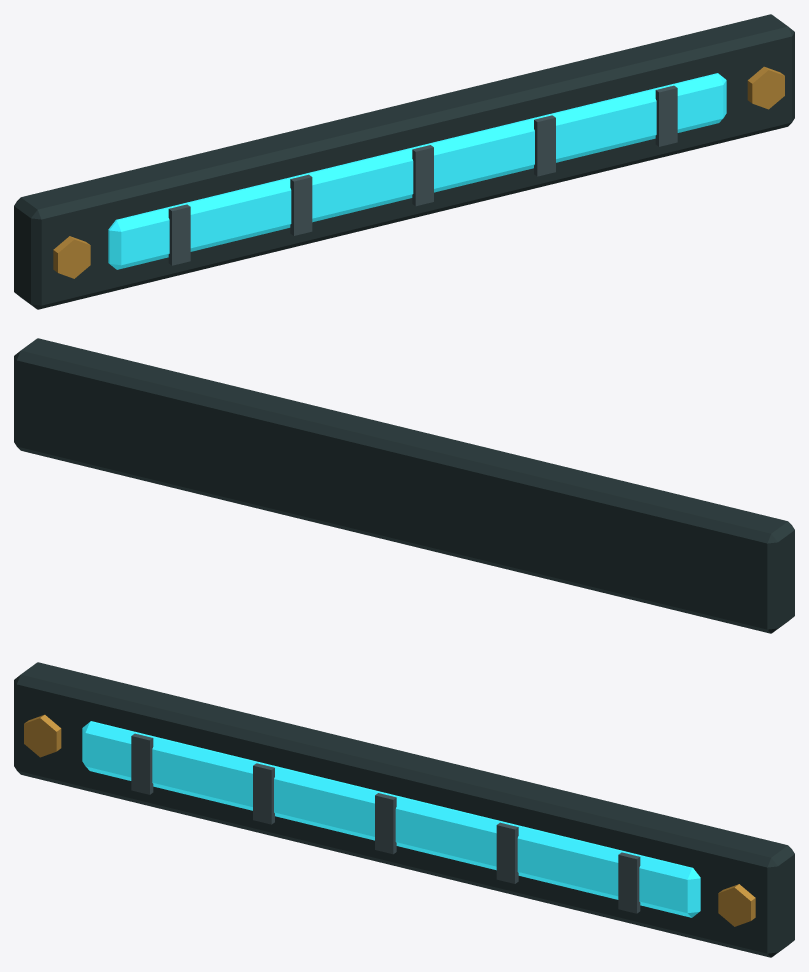
Rendered from e11c-c1-dock-relay-strip.glb.
The picture shows the model from 3 angles, top to bottom: view 1: azimuth 30°, elevation 25°; view 2: azimuth 150°, elevation 25°; view 3: azimuth 330°, elevation 25°; orthographic projection.
Parts seen in each view (by area): view 1: e11c-c1-dock-relay-strip; view 2: e11c-c1-dock-relay-strip; view 3: e11c-c1-dock-relay-strip.
Part boxes in pixels (box(x1,y1,x2,y2)): e11c-c1-dock-relay-strip: box(14, 14, 794, 309); e11c-c1-dock-relay-strip: box(14, 338, 794, 633); e11c-c1-dock-relay-strip: box(14, 662, 794, 957).
Bounding box in the file's own units: 1.82 × 0.228 × 0.135.
